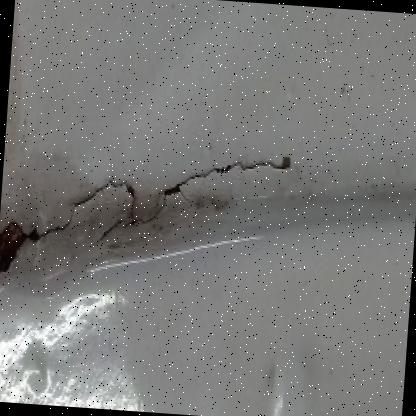Crack: (0, 64, 324, 386)
